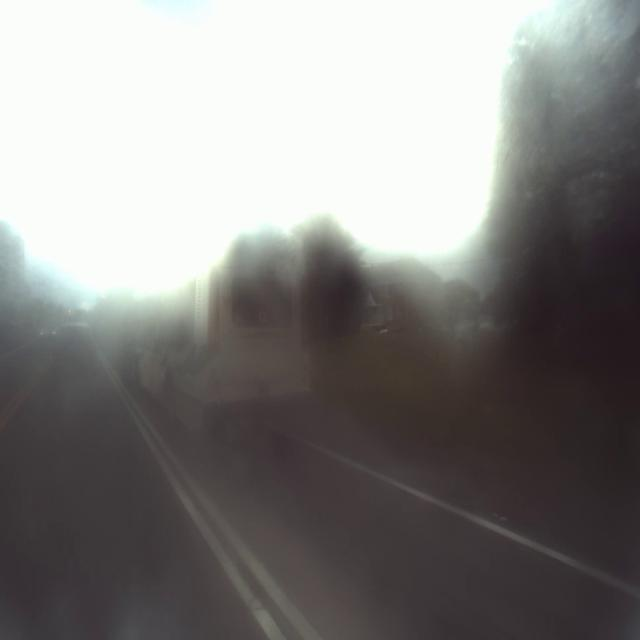car: (51, 316, 95, 380)
